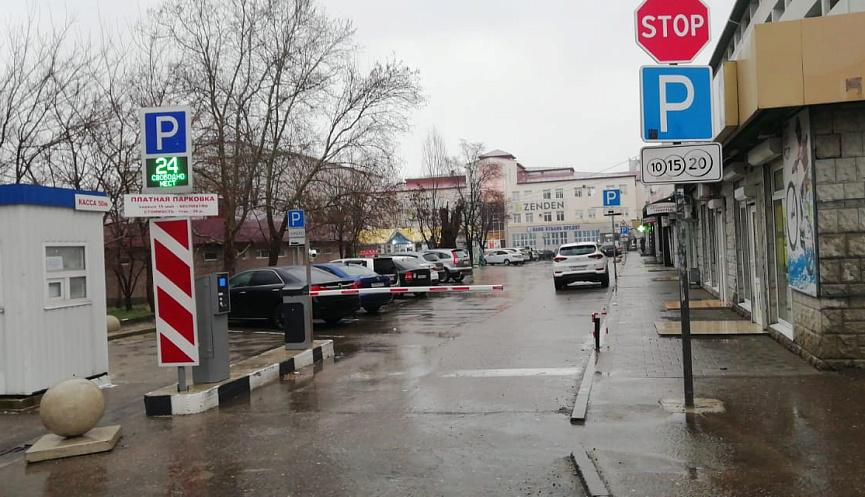Pole: (676, 184, 694, 411)
Sign: (635, 0, 712, 62)
